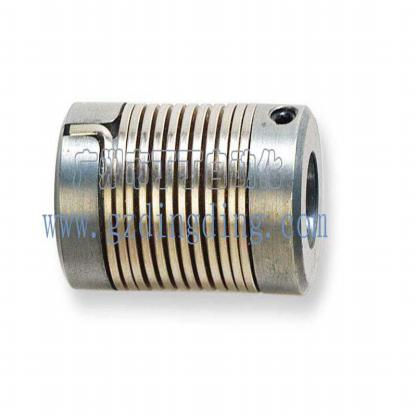FOD: (48, 92, 330, 301)
